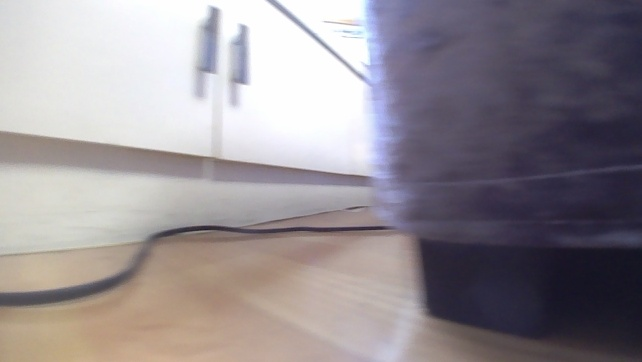wire: (0, 220, 397, 311)
